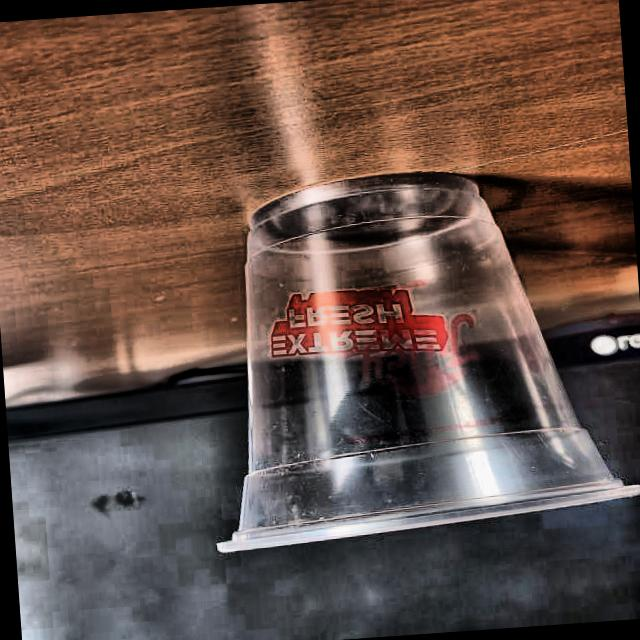plastic cup: (191, 157, 640, 554)
